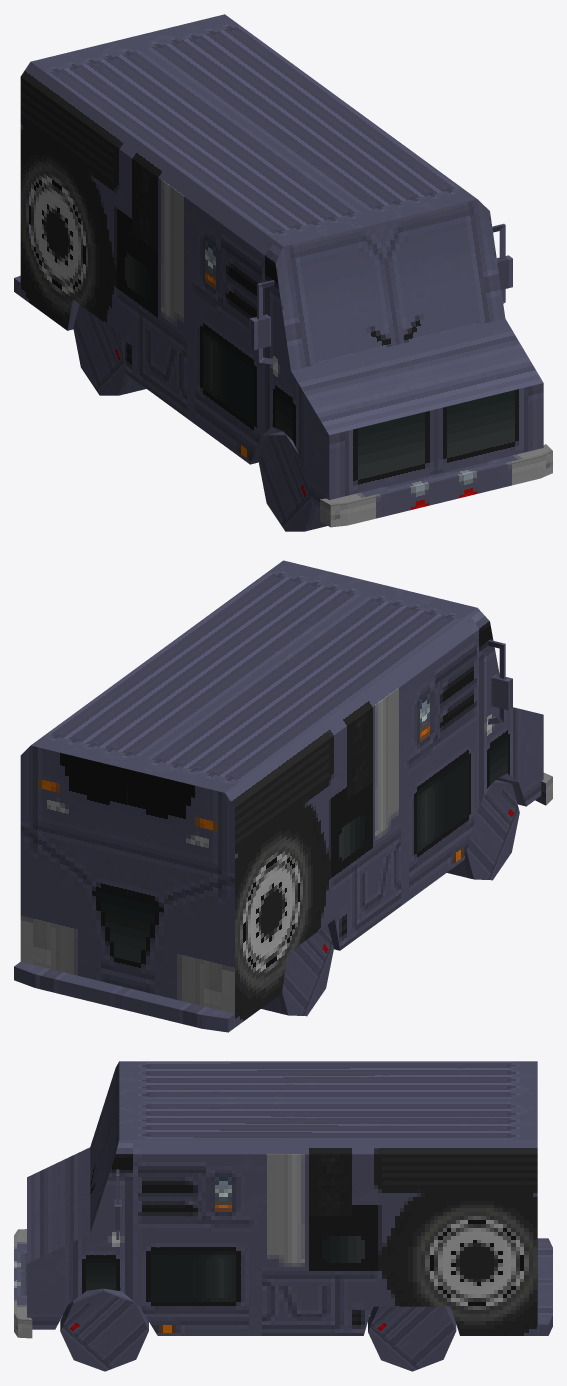
The model's file is car08_purple.glb.
3 renders of one model, top to bottom at view 1: azimuth 30°, elevation 25°; view 2: azimuth 150°, elevation 25°; view 3: azimuth 270°, elevation 25°, orthographic. The views are drawn at different scales.
Visible parts, largest first — view 1: car08_purple; view 2: car08_purple; view 3: car08_purple.
Part boxes in pixels (x1,y1,x2,y2): car08_purple: (14,14,552,531); car08_purple: (14,560,552,1032); car08_purple: (14,1061,552,1371).
Size of the model in its own units: 3.17 by 3.23 by 6.89.
1 material, 1 textured.
